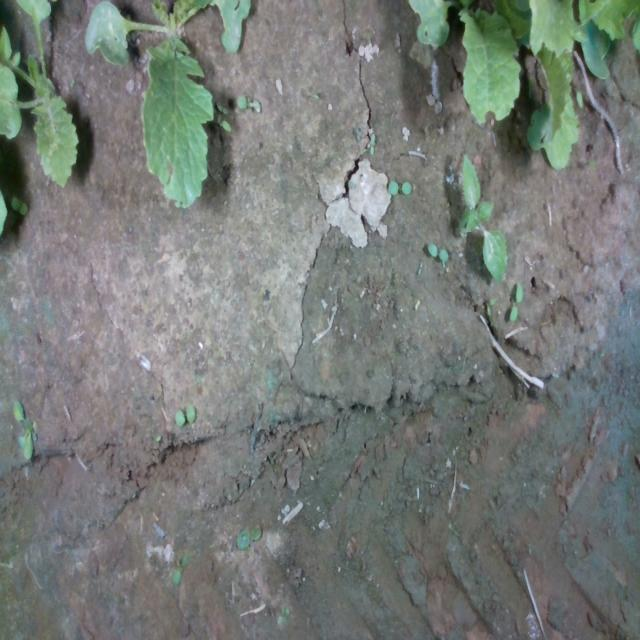weed: (460, 151, 507, 283), (12, 398, 34, 462), (234, 522, 262, 548), (509, 278, 523, 324), (172, 403, 195, 428), (236, 91, 262, 113), (427, 240, 449, 260), (387, 180, 412, 196), (367, 132, 375, 156), (216, 102, 228, 115), (414, 297, 421, 311), (417, 260, 423, 276)
